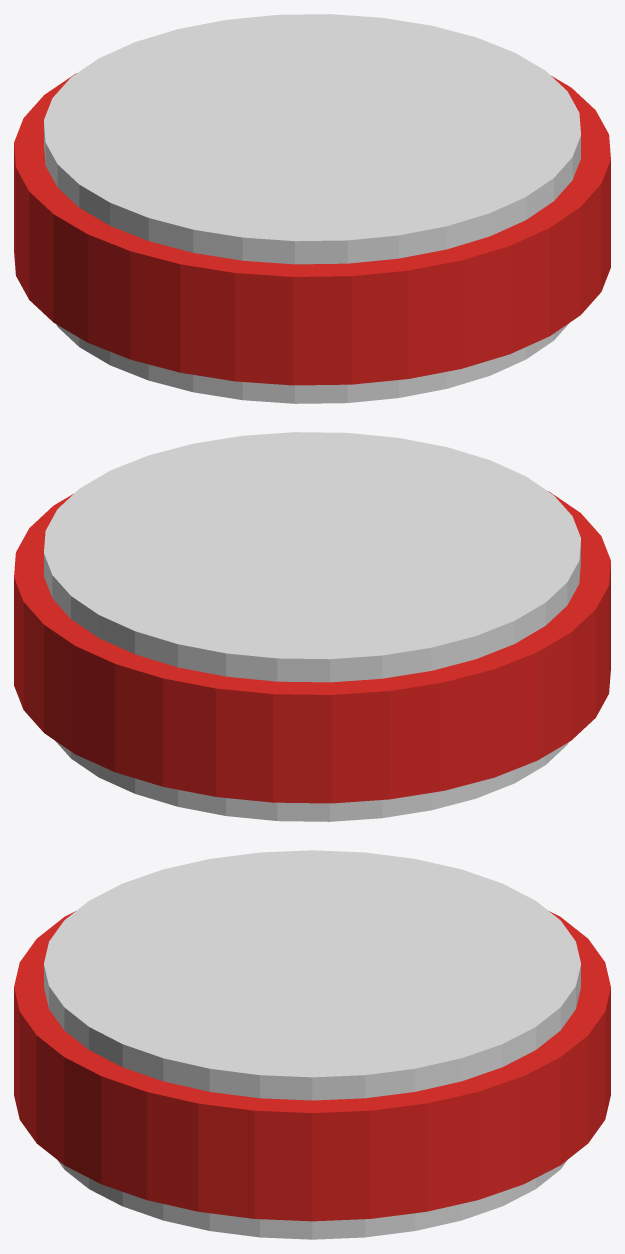
Rendered from ShockWave.fbx.
3 renders of one model, top to bottom at view 1: azimuth 30°, elevation 25°; view 2: azimuth 150°, elevation 25°; view 3: azimuth 270°, elevation 25°, orthographic.
Parts seen in each view (by area): view 1: 円柱.001, 円柱; view 2: 円柱.001, 円柱; view 3: 円柱.001, 円柱.
Boxes of the visible parts, x1,y1,x2,y2 form: 円柱.001: (44, 14, 580, 403); 円柱: (14, 73, 610, 385); 円柱.001: (44, 432, 580, 821); 円柱: (14, 491, 610, 803); 円柱.001: (44, 850, 580, 1239); 円柱: (14, 911, 610, 1221).
Size of the model in its own units: 1000 by 300 by 1000.
